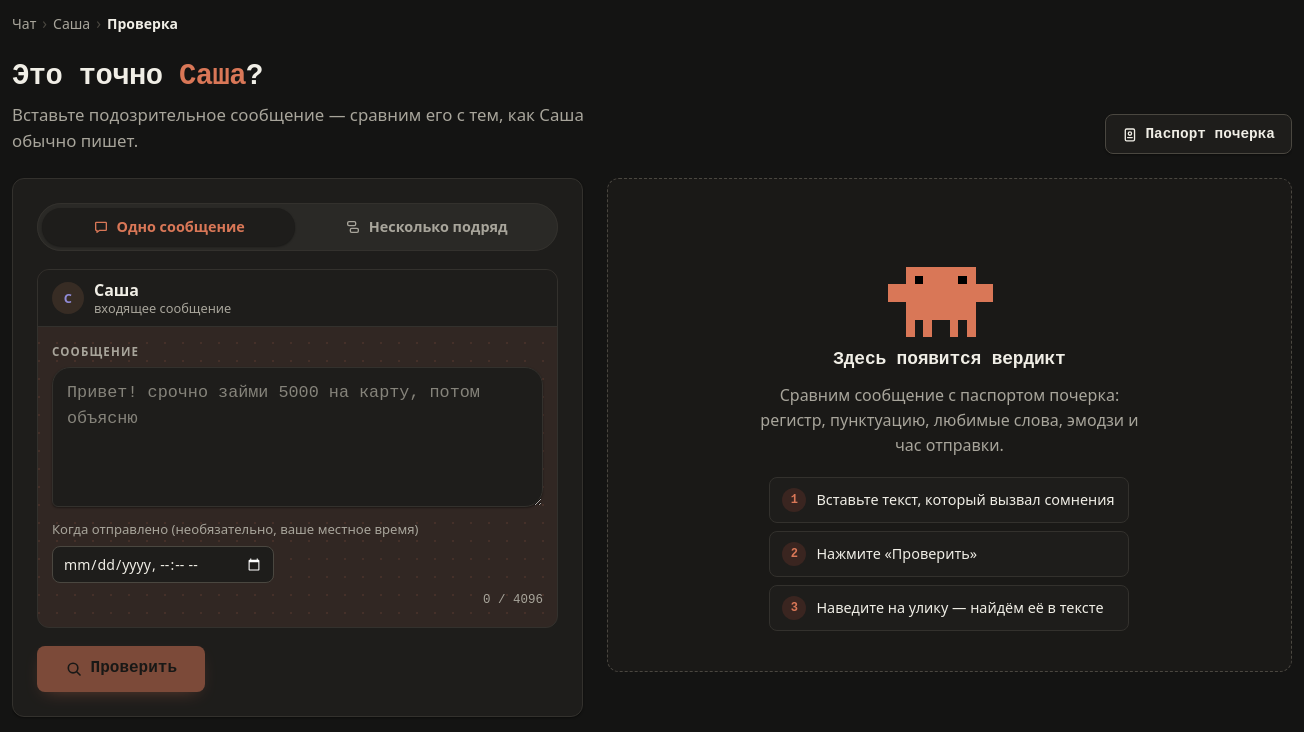
Test: настоящее сообщение: «похоже», блоков LLM нет
This screenshot has width=1304, height=732.
Step 1. Type "го в кино)" into the text box labelled "Сообщение" → [297, 437], box top-left (52, 367), bottom-right (543, 507)
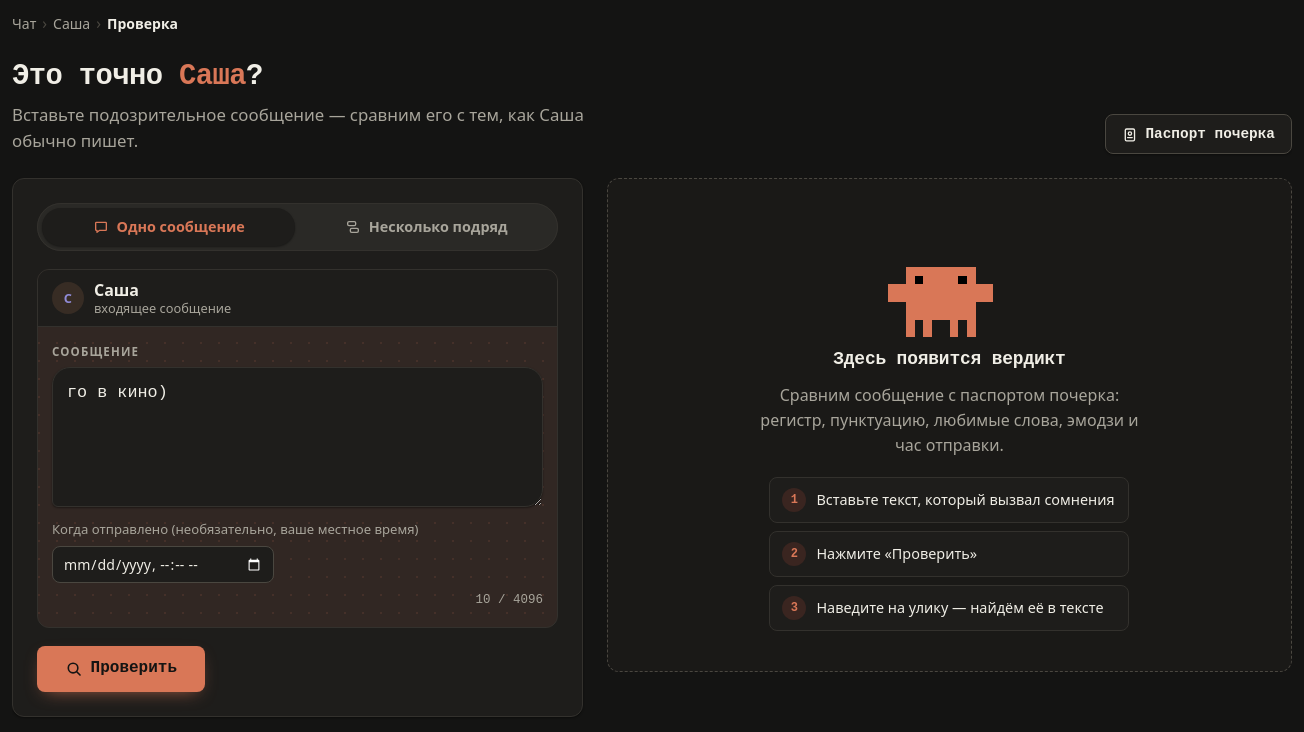
Step 2. Click the button "Проверить" → [121, 669], box top-left (37, 646), bottom-right (205, 692)
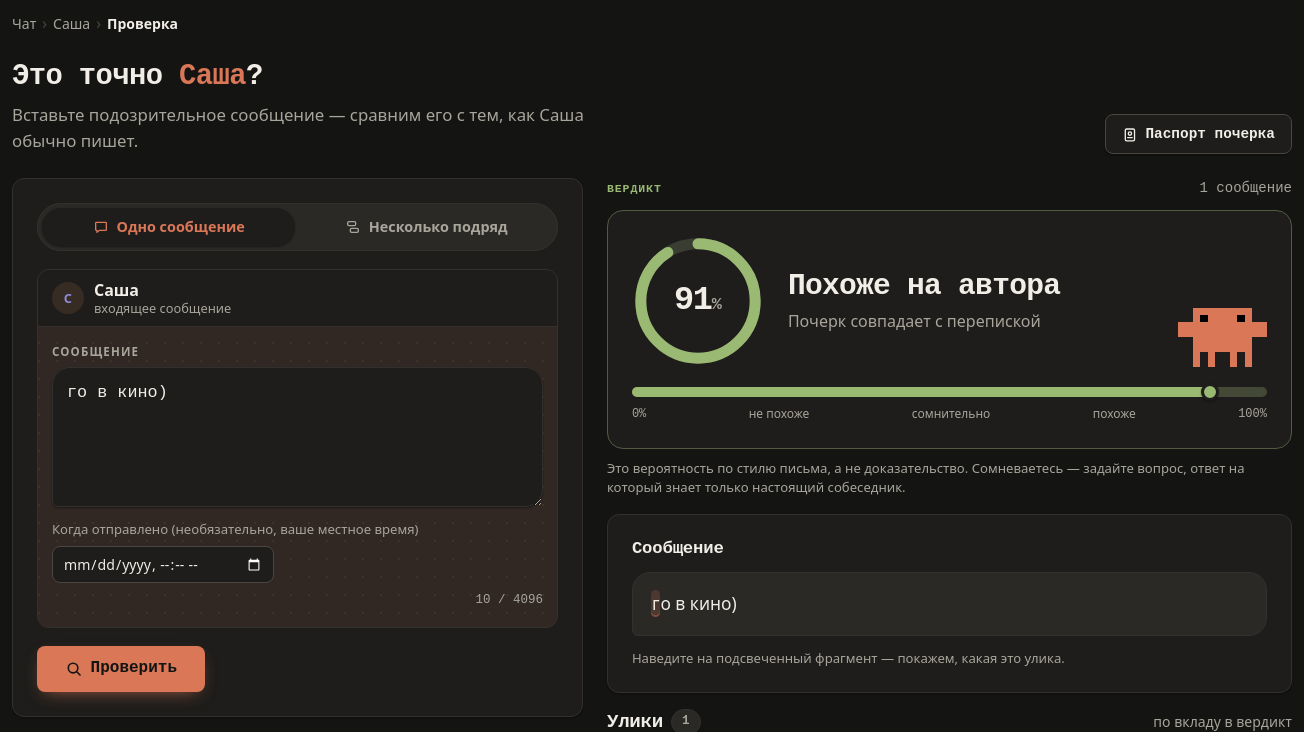
expect the text "Похоже на автора" is shown: met, box top-left (788, 269), bottom-right (1060, 303)
